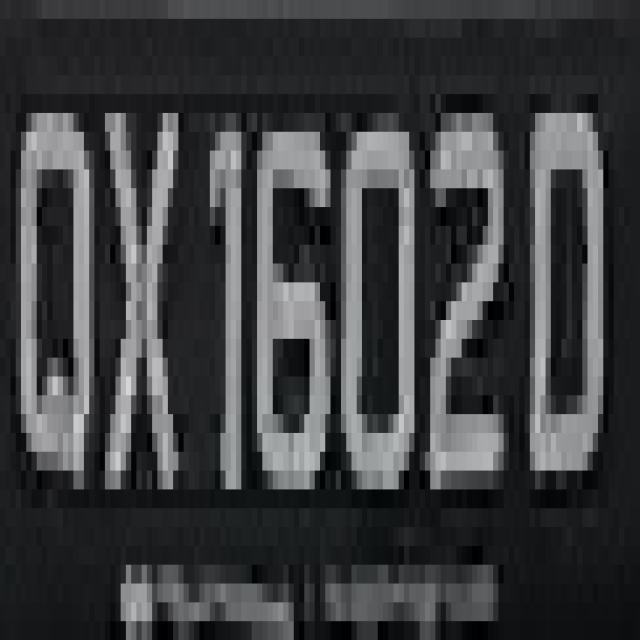0: (330, 75, 436, 546)
1: (204, 94, 247, 527)
2: (399, 56, 498, 508)
6: (247, 57, 331, 527)
D: (514, 76, 619, 508)
Q: (5, 57, 94, 564)
X: (105, 57, 199, 490)
